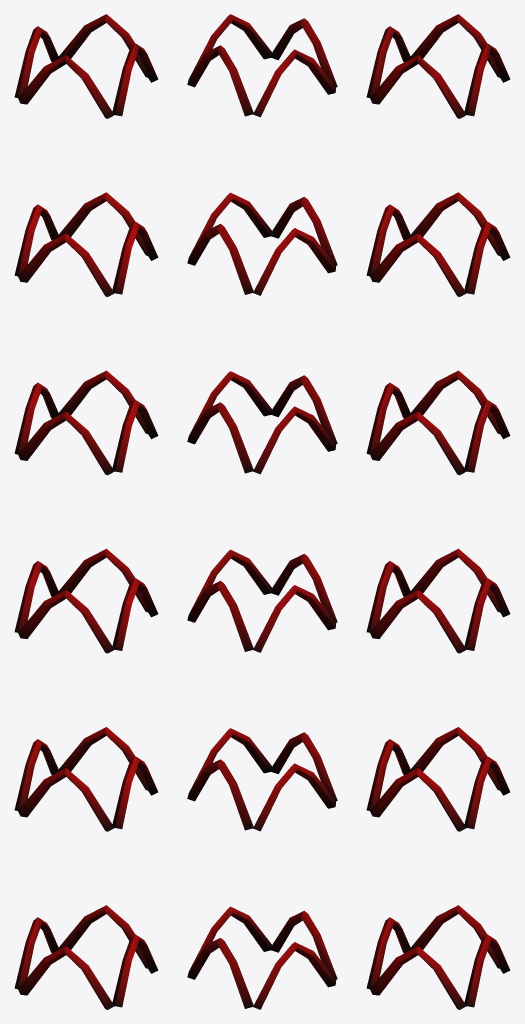
File: TowerInnerHorizontalSupports_export.obj
The picture shows the model from 3 angles, left to right: view 1: azimuth 90°, elevation 25°; view 2: azimuth 150°, elevation 25°; view 3: azimuth 270°, elevation 25°; orthographic projection.
Parts seen in each view (by area): view 1: TowerInnerHorizontalSupports; view 2: TowerInnerHorizontalSupports; view 3: TowerInnerHorizontalSupports.
Boxes of the visible parts, left/top/right/bottom form: TowerInnerHorizontalSupports: left=14, top=14, right=158, bottom=1009; TowerInnerHorizontalSupports: left=187, top=14, right=337, bottom=1009; TowerInnerHorizontalSupports: left=366, top=14, right=510, bottom=1009.
Bounding box in the file's own units: 1.46 × 10.63 × 1.46.
